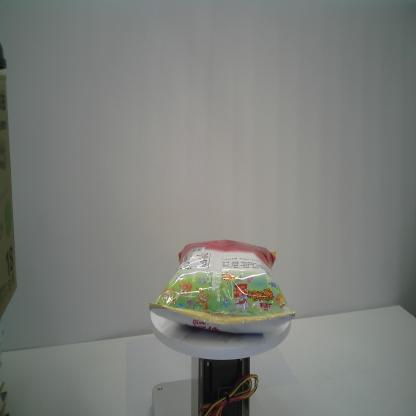Puffed Food: (147, 238, 297, 334)
